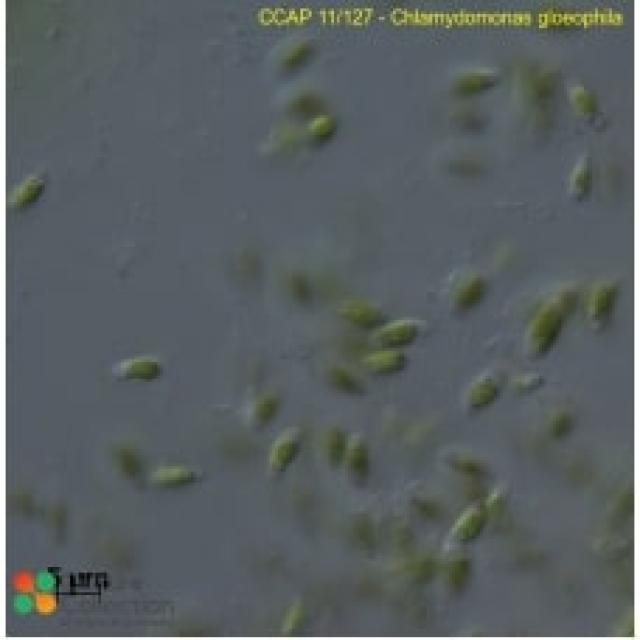Green Algae: (522, 306, 564, 365), (444, 502, 486, 553), (561, 152, 598, 208), (463, 370, 511, 410), (261, 430, 303, 474), (370, 312, 424, 345), (340, 424, 370, 483), (449, 68, 503, 96), (362, 345, 410, 376), (8, 174, 45, 211), (592, 280, 620, 326), (106, 356, 162, 379), (149, 461, 196, 488), (570, 81, 601, 121), (449, 278, 486, 309), (545, 407, 578, 438), (278, 604, 306, 634), (309, 115, 337, 143)
